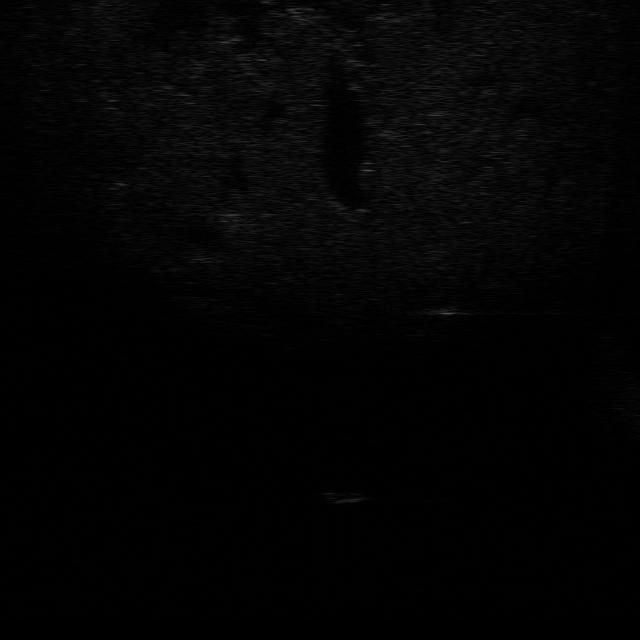cube: (325, 490, 371, 504)
square cage: (426, 300, 459, 320)
